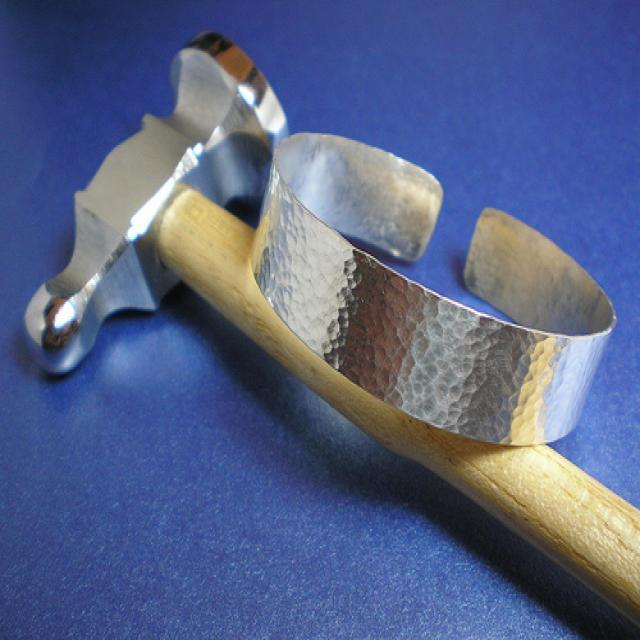hammer: (18, 28, 303, 428)
